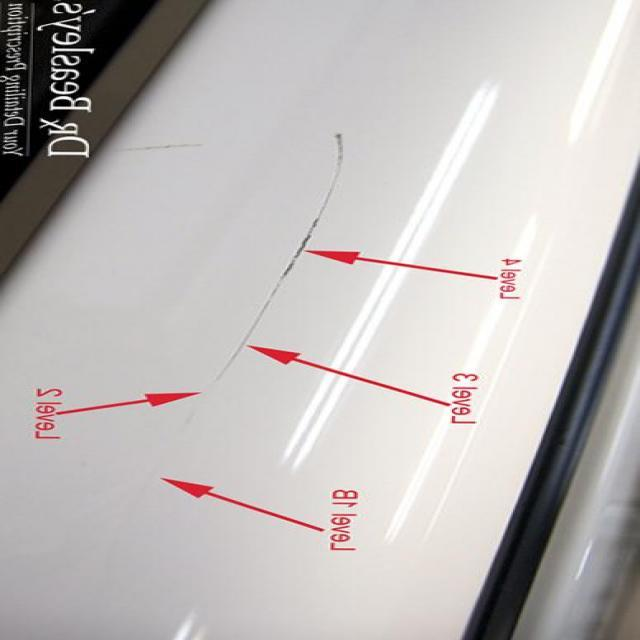scratch: (201, 119, 365, 388)
